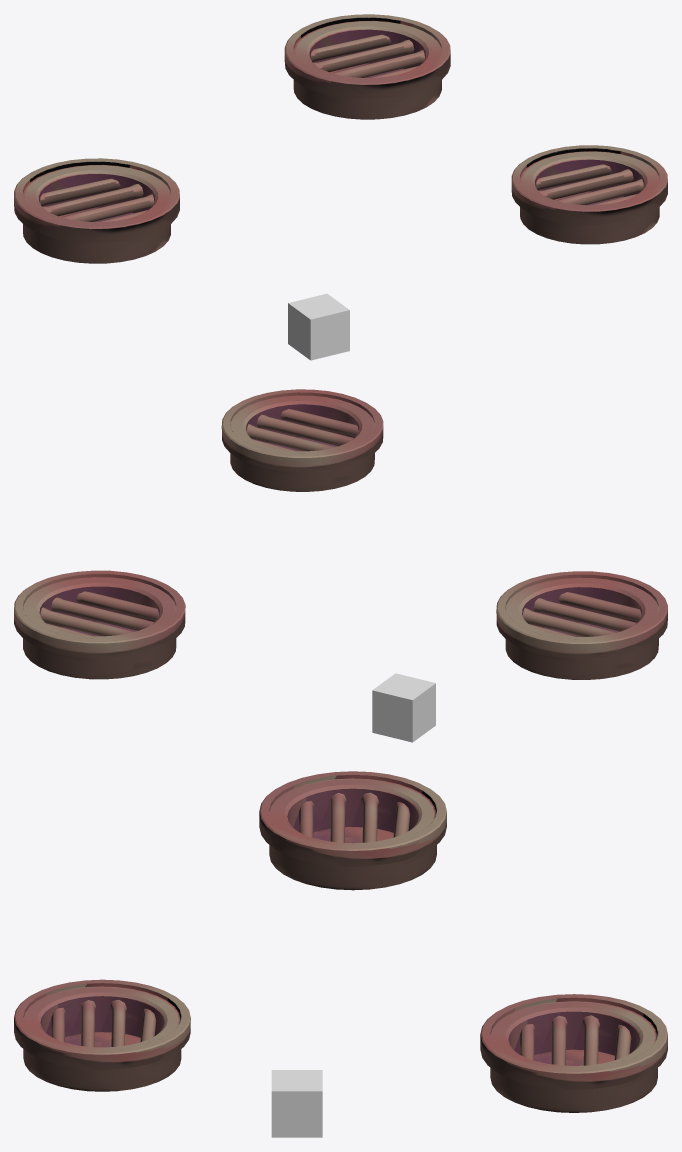
File: award-floor005.fbx
3 views of the same model, one above another, from view 1: azimuth 30°, elevation 25°; view 2: azimuth 150°, elevation 25°; view 3: azimuth 270°, elevation 25° (orthographic). The views are drawn at different scales.
Visible parts, largest first — view 1: Cylinder.019, Cylinder.018, Cylinder.016, award-floor005; view 2: Cylinder.019, Cylinder.018, Cylinder.016, award-floor005; view 3: Cylinder.019, Cylinder.018, Cylinder.016, award-floor005.
Part boxes in pixels (x1,y1,x2,y2): Cylinder.019: (284, 14, 450, 119); Cylinder.018: (14, 158, 179, 263); Cylinder.016: (511, 145, 667, 244); award-floor005: (288, 293, 349, 360); Cylinder.019: (14, 570, 185, 679); Cylinder.018: (496, 571, 667, 679); Cylinder.016: (221, 389, 383, 491); award-floor005: (372, 673, 435, 742); Cylinder.019: (480, 994, 667, 1112); Cylinder.018: (259, 771, 446, 890); Cylinder.016: (14, 979, 190, 1091); award-floor005: (271, 1070, 322, 1137).
Bounding box in the file's own units: 1138 × 392 × 1096.
